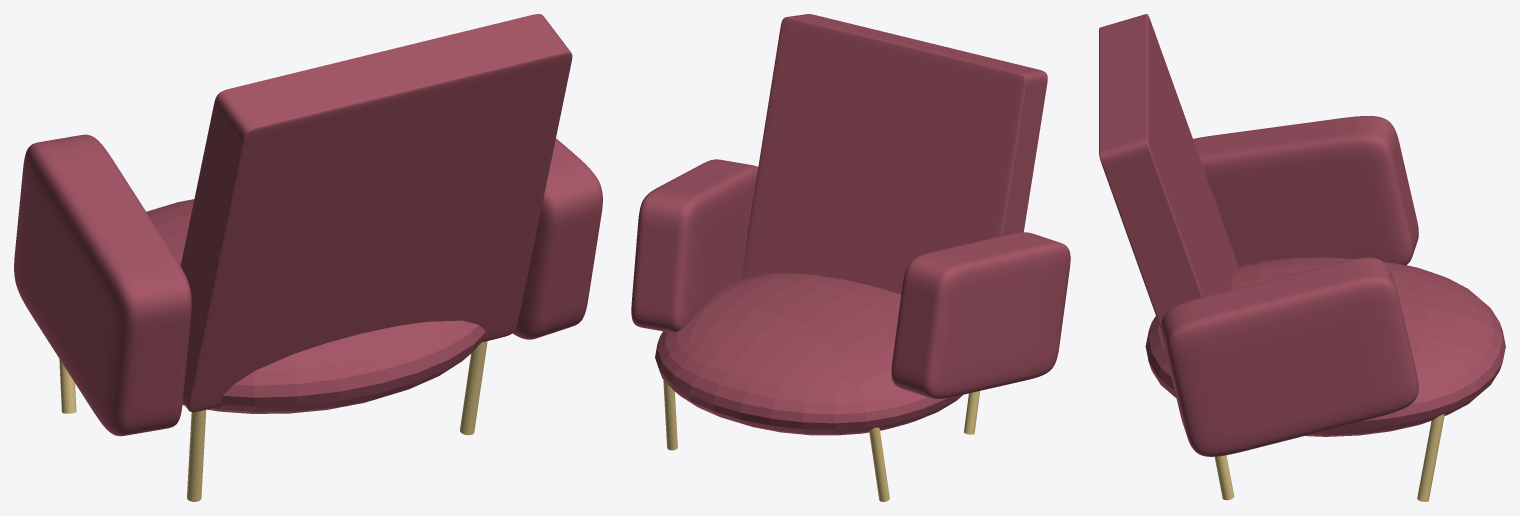
3 views of the same model, side by side, from view 1: azimuth 30°, elevation 25°; view 2: azimuth 150°, elevation 25°; view 3: azimuth 270°, elevation 25° (orthographic). The views are drawn at different scales.
Visible parts, largest first — view 1: object 5, Back_Left_Leg, Back_Right_Leg, Front_Left_Leg; view 2: object 5, Front_Left_Leg, Front_Right_Leg, Back_Left_Leg; view 3: object 5, Front_Right_Leg, Back_Right_Leg.
Boxes of the visible parts, x1,y1,x2,y2 form: object 5: (14, 14, 602, 436); Back_Left_Leg: (187, 410, 206, 501); Back_Right_Leg: (460, 341, 487, 435); Front_Left_Leg: (59, 359, 76, 413); object 5: (631, 14, 1070, 435); Front_Left_Leg: (869, 409, 889, 501); Front_Right_Leg: (663, 380, 677, 450); Back_Left_Leg: (964, 391, 979, 434); object 5: (1099, 14, 1505, 456); Front_Right_Leg: (1417, 414, 1444, 501); Back_Right_Leg: (1214, 455, 1234, 500).
Bounding box in the file's own units: 1.89 × 1.7 × 1.71.
